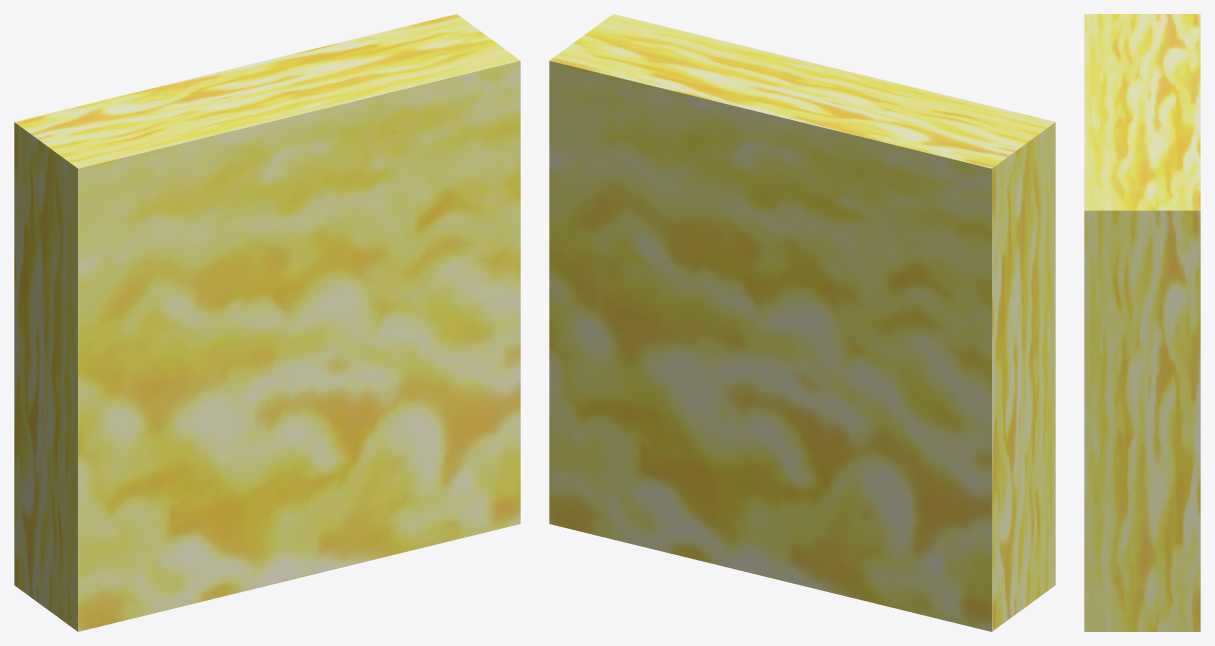
Rendered from lv03-floor-moving-tile-clouds.obj.
The picture shows the model from 3 angles, left to right: view 1: azimuth 30°, elevation 25°; view 2: azimuth 150°, elevation 25°; view 3: azimuth 270°, elevation 25°; orthographic projection. The views are drawn at different scales.
Visible parts, largest first — view 1: Object.1; view 2: Object.1; view 3: Object.1.
Boxes of the visible parts, box(x1,y1,x2,y2) form: Object.1: box(14, 14, 520, 631); Object.1: box(549, 14, 1055, 631); Object.1: box(1084, 14, 1200, 631).
Bounding box in the file's own units: 81.25 × 81.25 × 20.32.
1 material, 1 textured.
